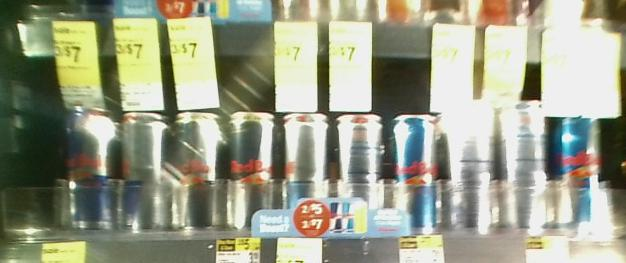bottle: (227, 100, 283, 237), (552, 94, 601, 238), (335, 106, 387, 236), (499, 94, 547, 231), (172, 104, 222, 232), (447, 97, 492, 239), (392, 102, 439, 233), (64, 104, 114, 226), (285, 109, 332, 237), (123, 107, 168, 228)
